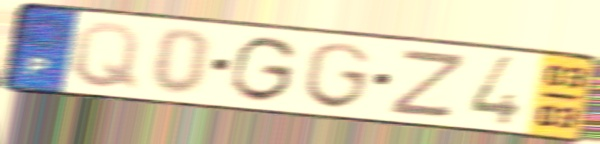0: (149, 25, 216, 98)
4: (465, 53, 527, 129)
G: (300, 40, 375, 112), (226, 34, 301, 105)
Q: (69, 19, 143, 92)
Z: (383, 49, 472, 122)
